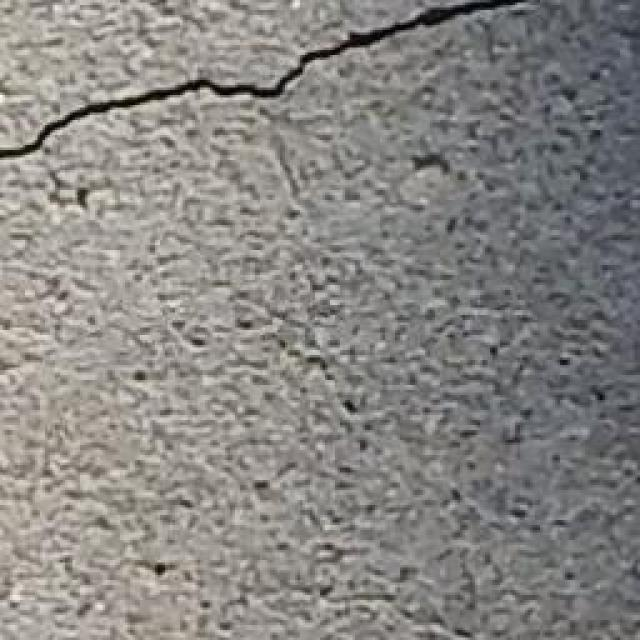concrete-crack: (1, 1, 534, 164)
